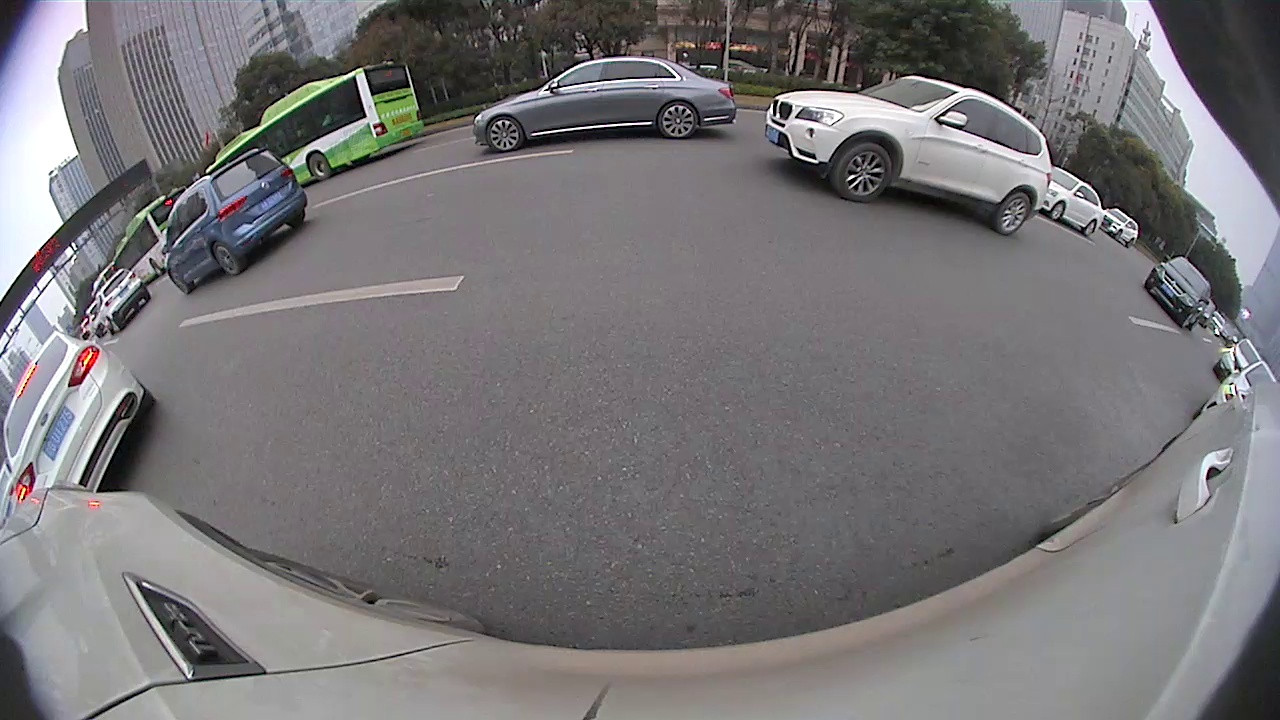bus: (204, 56, 430, 183)
car: (761, 72, 1055, 240), (471, 54, 738, 156), (5, 326, 161, 498), (159, 141, 310, 296), (1146, 254, 1214, 331), (1042, 167, 1107, 240)
front: (832, 141, 895, 200), (485, 115, 524, 153)
rear: (996, 188, 1033, 235), (658, 101, 699, 140), (212, 240, 243, 278), (303, 152, 333, 180)
